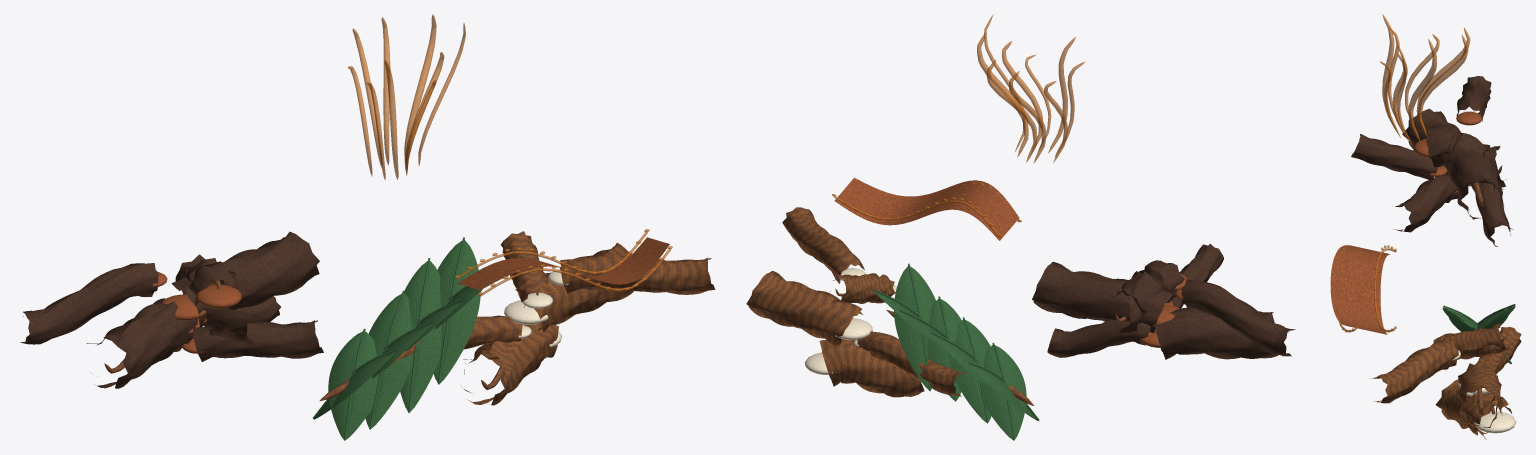
File: midnight-oud-ingredients.glb
3 renders of one model, left to right at view 1: azimuth 30°, elevation 25°; view 2: azimuth 150°, elevation 25°; view 3: azimuth 270°, elevation 25°, orthographic. The views are drawn at different scales.
Parts seen in each view (by area): view 1: Oud wood · detail (×7), Patchouli · detail, Sandalwood · detail (×5), Leather · detail (×2), Saffron · detail (×5); view 2: Oud wood · detail (×6), Sandalwood · detail (×5), Patchouli · detail, Leather · detail (×2), Saffron · detail (×5); view 3: Oud wood · detail (×9), Sandalwood · detail (×6), Leather · detail (×2), Saffron · detail (×9), Patchouli · detail.
Boxes of the visible parts, x1,y1,x2,y2 form: Oud wood · detail (×7): [20, 231, 323, 388]; Patchouli · detail: [313, 237, 482, 440]; Sandalwood · detail (×5): [461, 231, 715, 405]; Leather · detail (×2): [454, 229, 672, 296]; Saffron · detail (×5): [352, 14, 444, 179]; Oud wood · detail (×6): [1032, 243, 1295, 359]; Sandalwood · detail (×5): [746, 207, 966, 397]; Patchouli · detail: [873, 263, 1039, 440]; Leather · detail (×2): [832, 177, 1021, 240]; Saffron · detail (×5): [977, 31, 1075, 163]; Oud wood · detail (×9): [1351, 76, 1513, 246]; Sandalwood · detail (×6): [1370, 323, 1521, 439]; Leather · detail (×2): [1330, 245, 1396, 334]; Saffron · detail (×9): [1379, 14, 1470, 146]; Patchouli · detail: [1442, 304, 1515, 363].
Bounding box in the file's own units: 4.24 × 2.68 × 1.3.
Materials: 6 (6 with a texture image).
